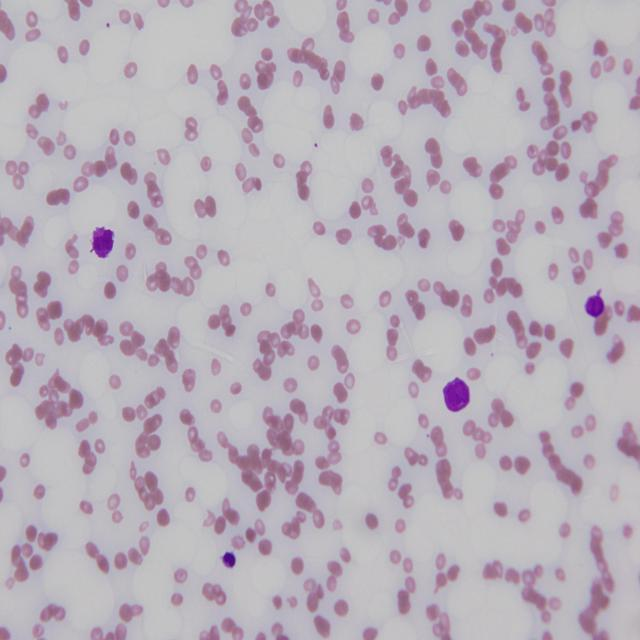cell: (442, 378, 470, 411), (91, 226, 114, 258), (585, 290, 605, 317), (221, 551, 236, 567)
